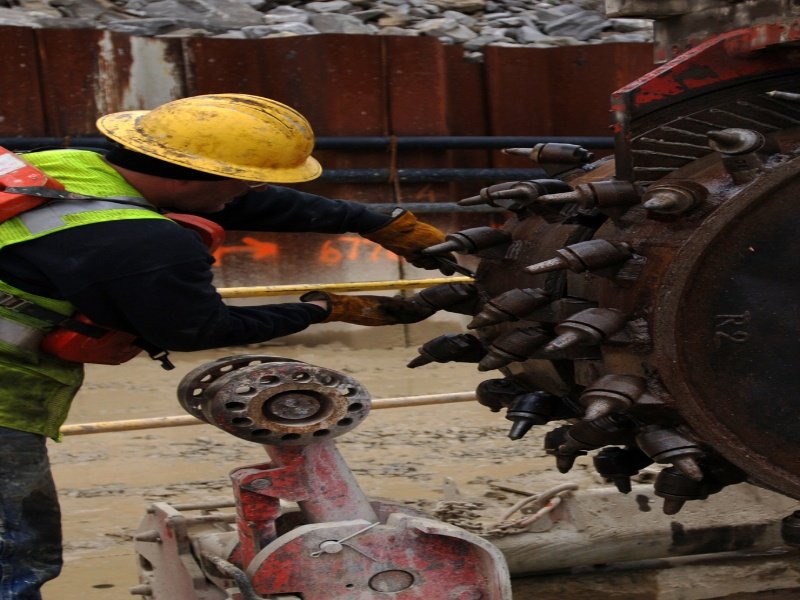Baret: (95, 90, 325, 184)
